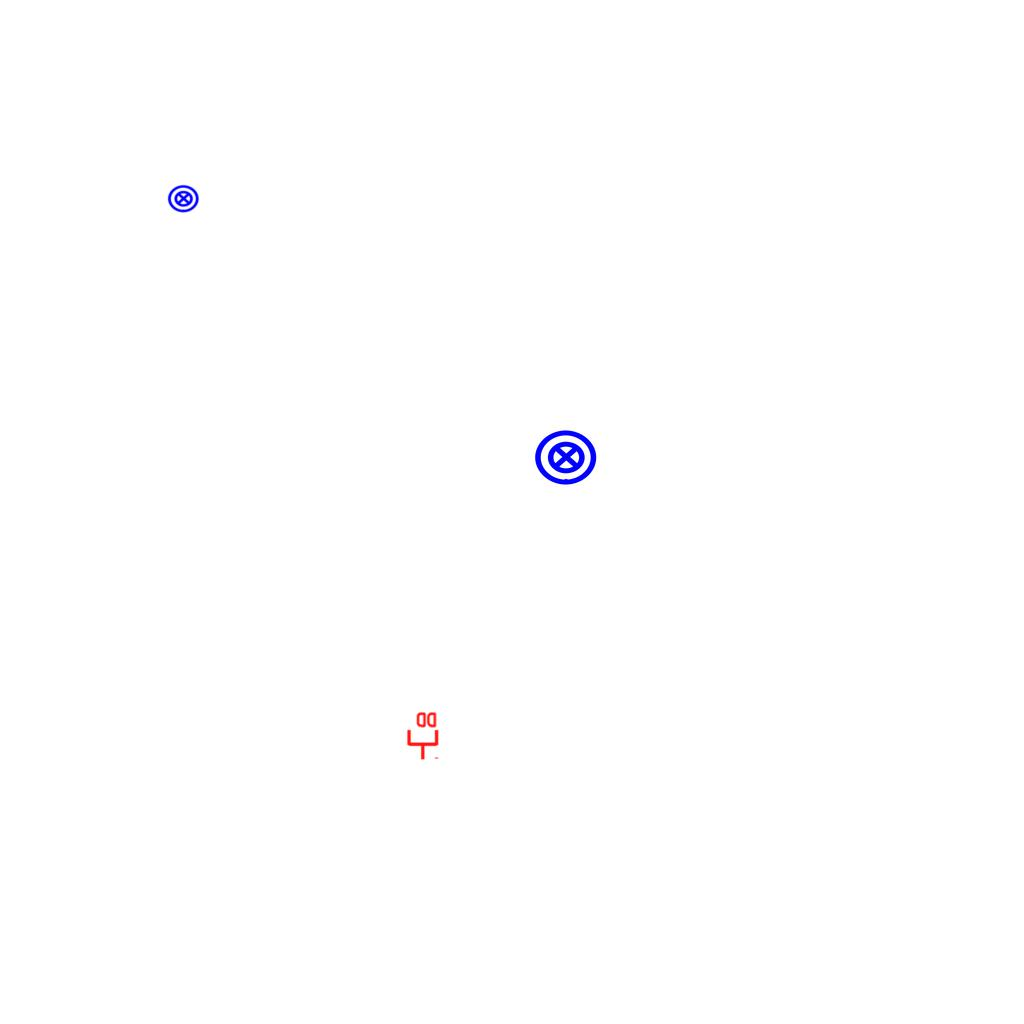Datenanschluss_zweifach: (405, 710, 439, 761)
Taster_beleuchtet: (533, 424, 599, 490), (167, 182, 200, 215)
